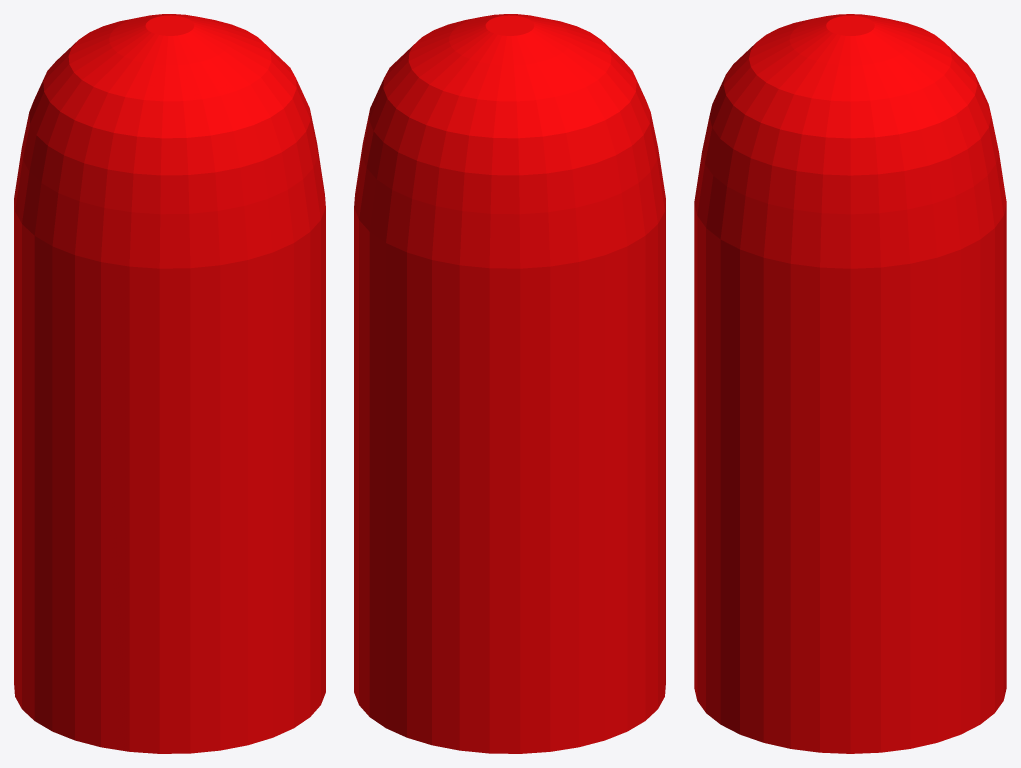
File: enemy-bullet.gltf
3 views of the same model, side by side, from view 1: azimuth 30°, elevation 25°; view 2: azimuth 150°, elevation 25°; view 3: azimuth 270°, elevation 25° (orthographic).
Visible parts, largest first — view 1: Cylinder; view 2: Cylinder; view 3: Cylinder.
Part boxes in pixels (x1=…): Cylinder: x1=14, y1=14, x2=325, y2=753; Cylinder: x1=354, y1=14, x2=665, y2=753; Cylinder: x1=694, y1=14, x2=1006, y2=753.
Size of the model in its own units: 0.4 by 0.9352 by 0.4.
